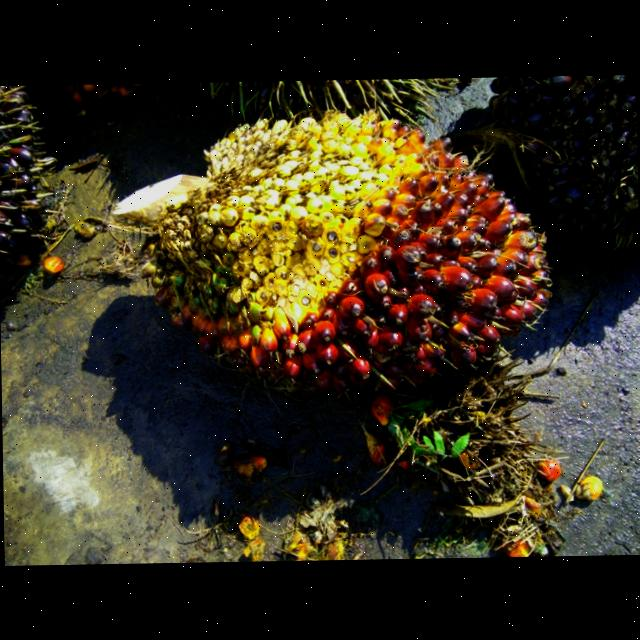Ripe: (144, 112, 553, 420), (447, 75, 639, 252)
